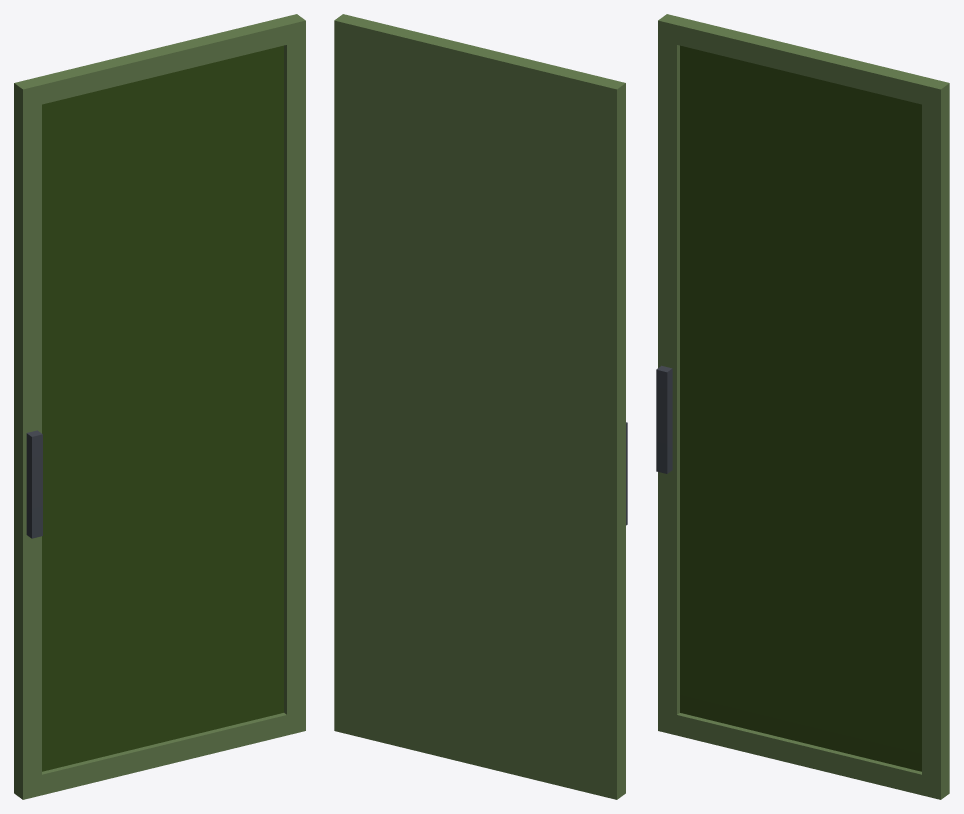
The model's file is House_50_Door02.fbx.
The picture shows the model from 3 angles, left to right: view 1: azimuth 30°, elevation 25°; view 2: azimuth 150°, elevation 25°; view 3: azimuth 330°, elevation 25°; orthographic projection.
Visible parts, largest first — view 1: House_50_Door02; view 2: House_50_Door02; view 3: House_50_Door02.
Part boxes in pixels (<box>): House_50_Door02: <box>14,14,305,799</box>; House_50_Door02: <box>334,14,627,799</box>; House_50_Door02: <box>656,14,949,799</box>.
Bounding box in the file's own units: 0.9165 × 2.2 × 0.08.
